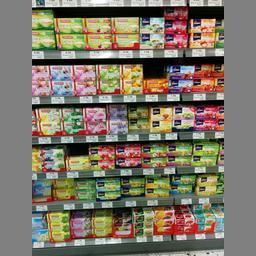tea: (111, 14, 136, 46), (118, 60, 142, 92), (71, 62, 95, 92), (88, 143, 111, 168), (82, 106, 104, 132), (96, 178, 119, 198)
